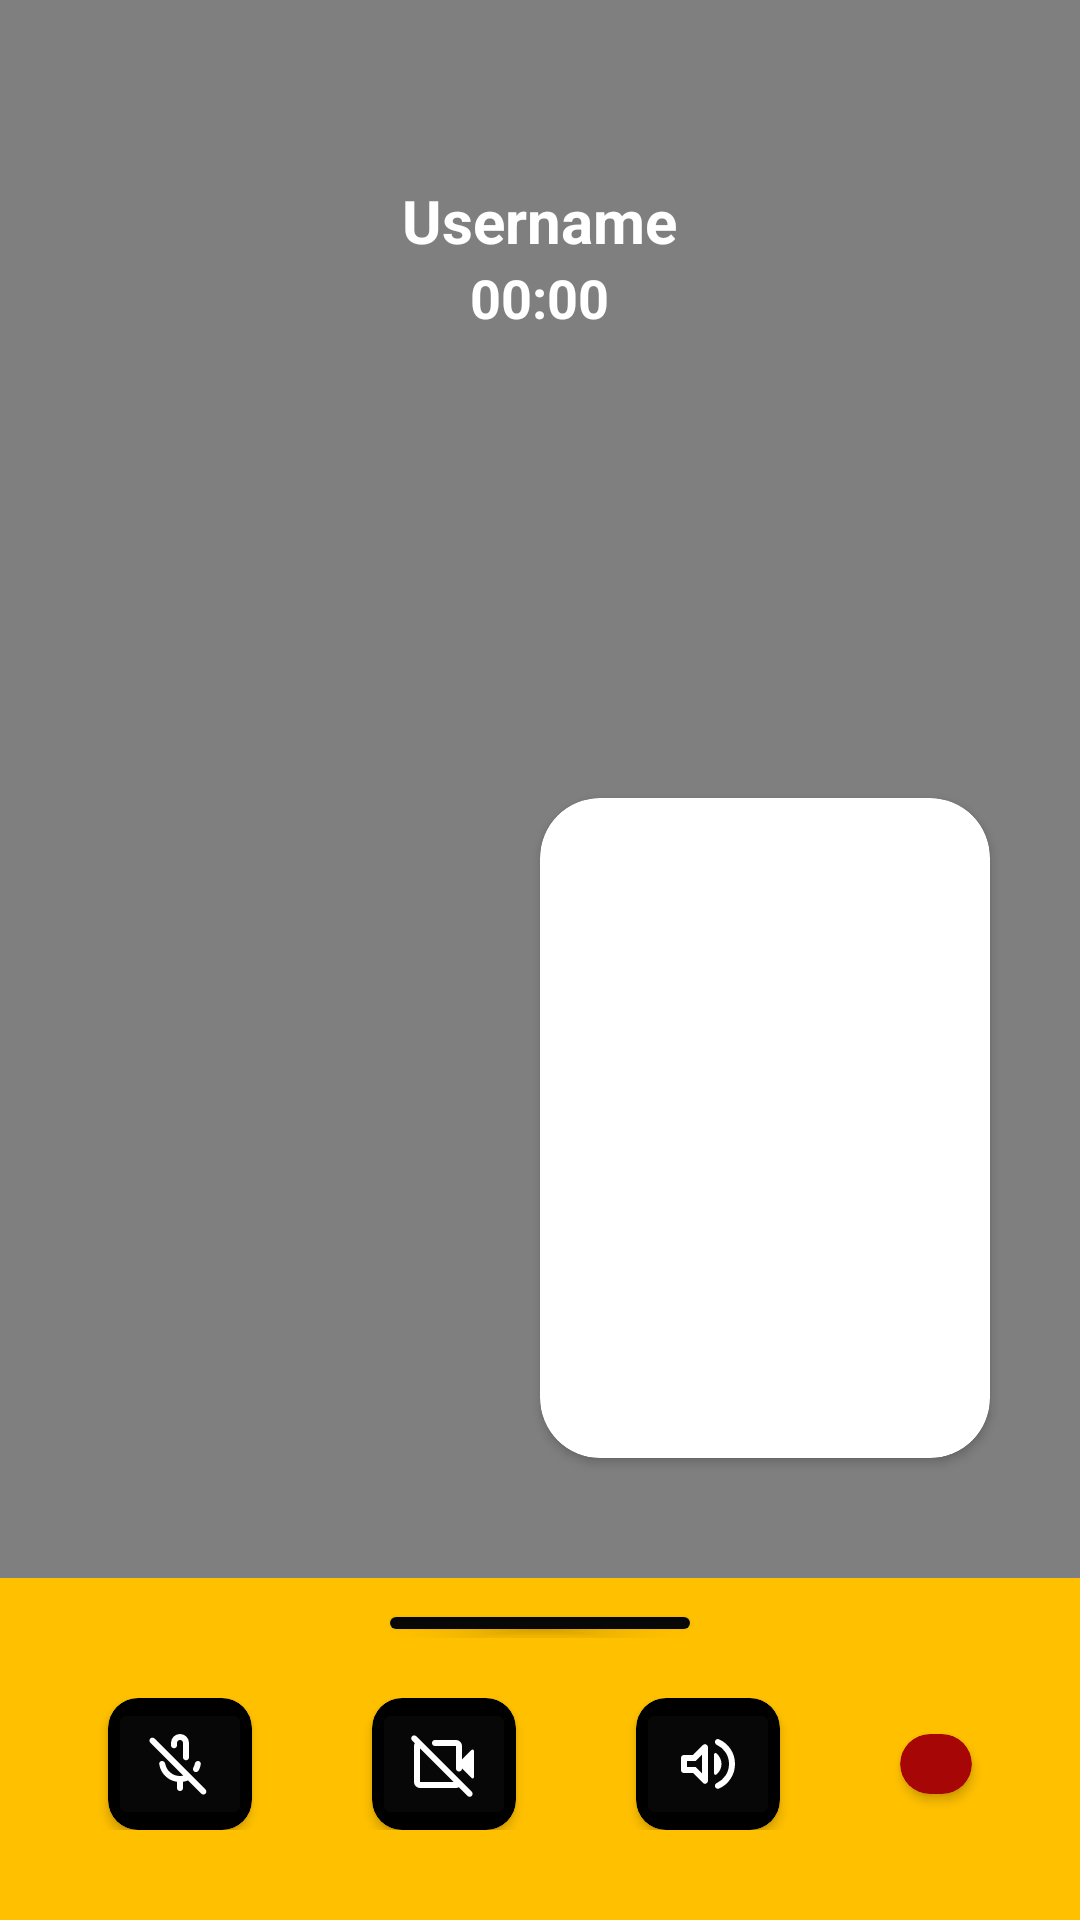

Named icons in this screenshot (1080*1920) and their centers, (x=x, y=y):
Camera off: (x=444, y=1764)
Mute Option: (x=180, y=1764)
speaker: (x=708, y=1764)
